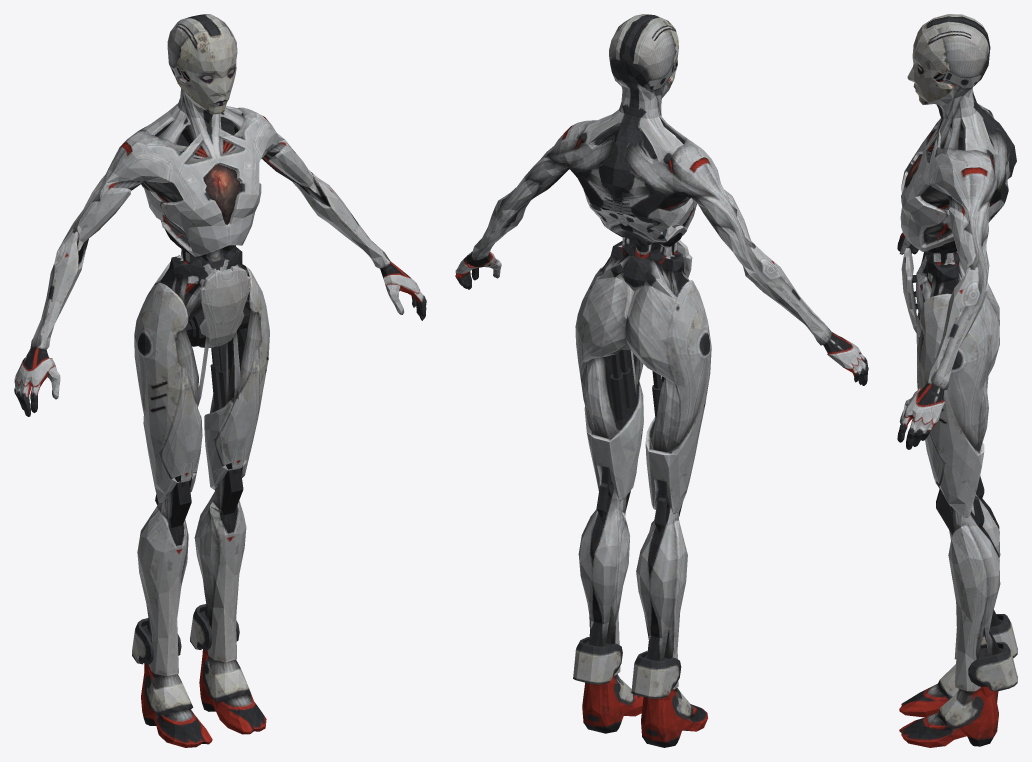
Rendered from valet.obj.
3 views of the same model, side by side, from view 1: azimuth 30°, elevation 25°; view 2: azimuth 150°, elevation 25°; view 3: azimuth 270°, elevation 25° (orthographic).
Parts seen in each view (by area): view 1: 2b02f008_obj; view 2: 2b02f008_obj; view 3: 2b02f008_obj.
Part boxes in pixels (left/top/right/bottom): 2b02f008_obj: left=14, top=14, right=426, bottom=747; 2b02f008_obj: left=455, top=14, right=868, bottom=747; 2b02f008_obj: left=897, top=14, right=1017, bottom=747.
Bounding box in the file's own units: 3.18 × 5.3 × 0.8162.
Materials: 1 (1 with a texture image).
